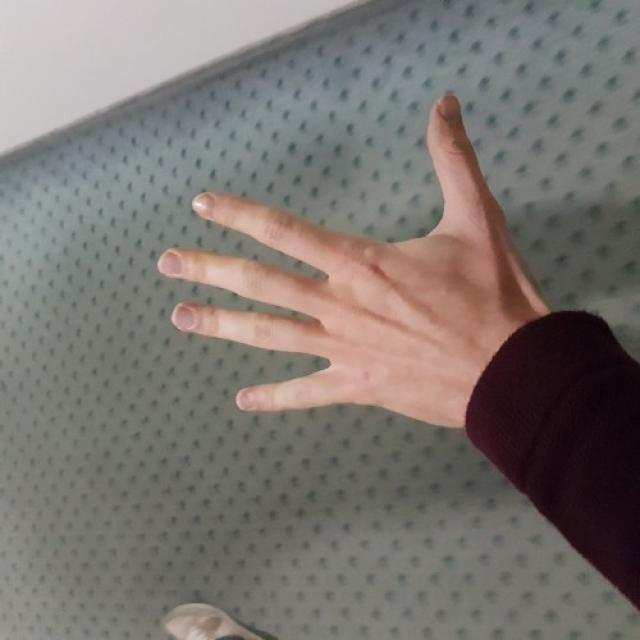paper: (157, 90, 523, 415)
